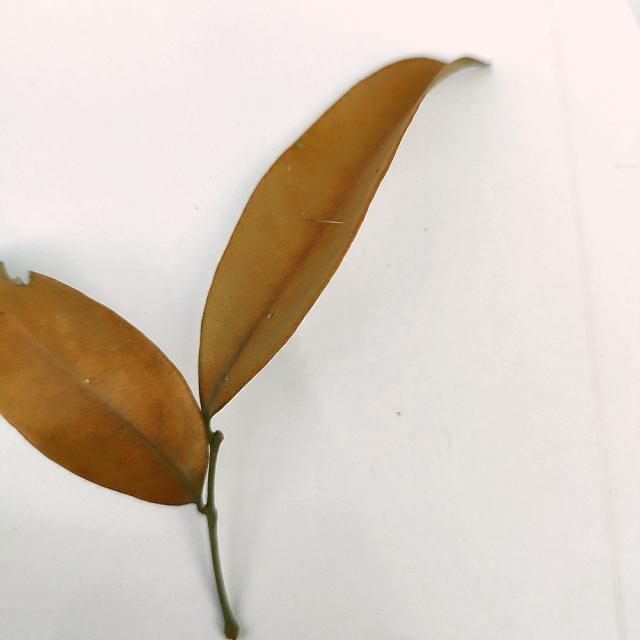Dry_Leaf-Lychee: (0, 58, 442, 522)
